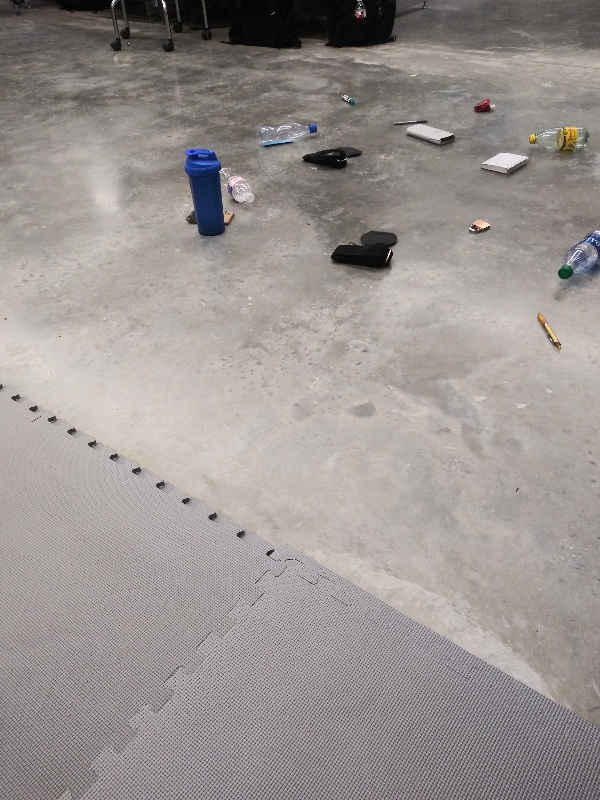bottle: (555, 226, 600, 287), (219, 159, 262, 209), (526, 123, 592, 155), (253, 120, 322, 149)
